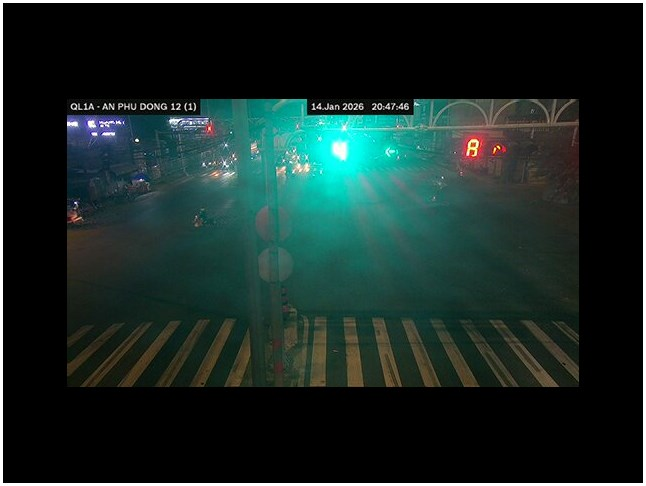car: (67, 199, 84, 224)
